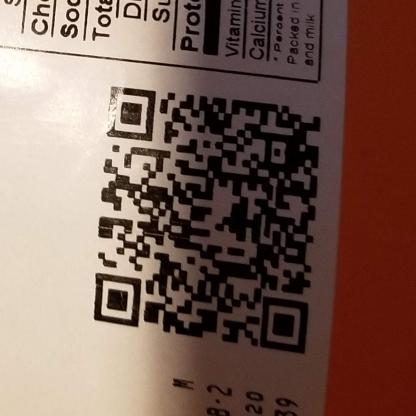qr: (85, 81, 334, 359)
